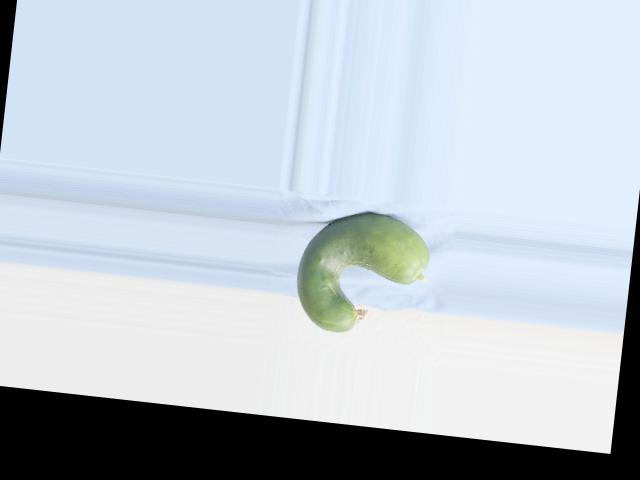cucumber: (291, 205, 434, 341)
